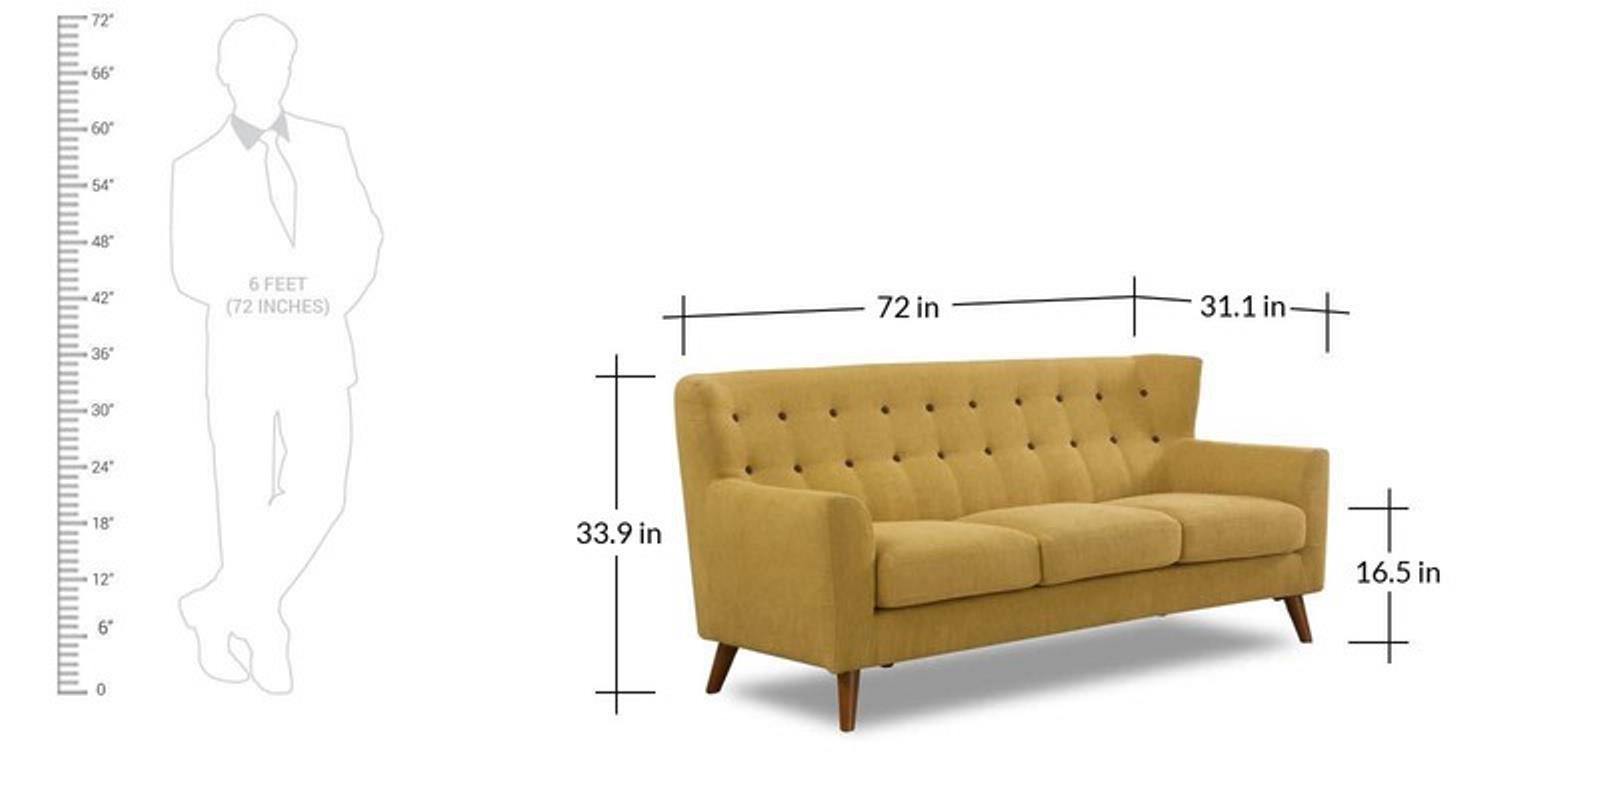Havana Three Seater Sofa in Ochre Colour by CasaCraft: (658, 350, 1352, 739)
